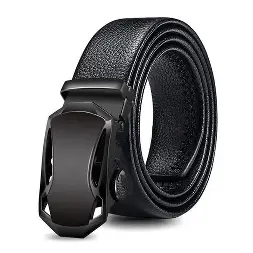sabuk_ada: (36, 9, 238, 232)
